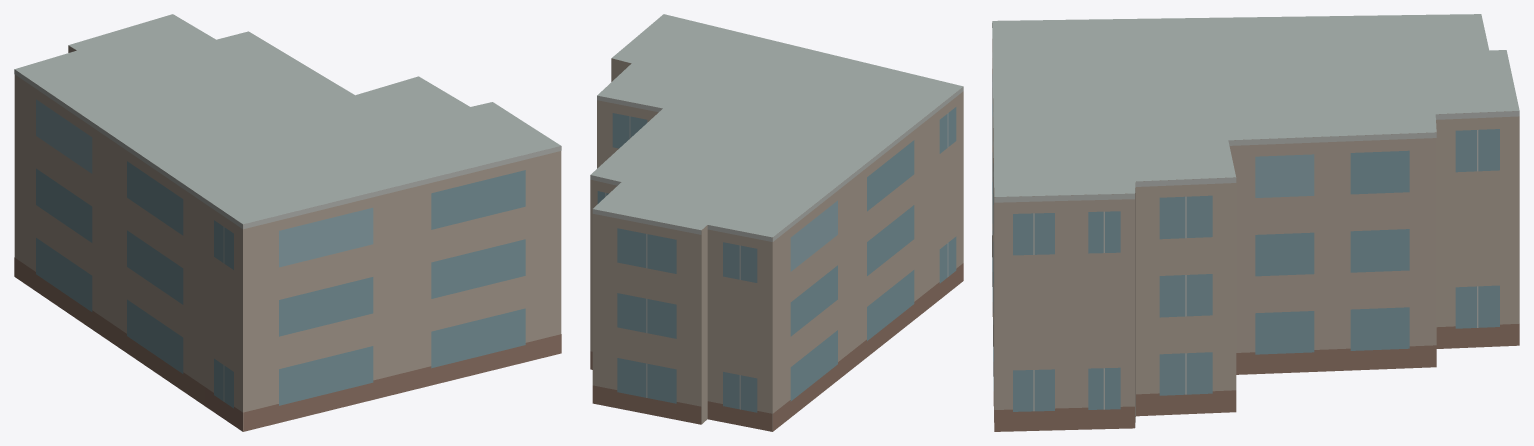
File: survey-upis-32963254.glb
3 views of the same model, side by side, from view 1: azimuth 30°, elevation 25°; view 2: azimuth 150°, elevation 25°; view 3: azimuth 270°, elevation 25° (orthographic). The views are drawn at different scales.
Parts seen in each view (by area): view 1: survey-upis-32963254.tmp; view 2: survey-upis-32963254.tmp; view 3: survey-upis-32963254.tmp.
Boxes of the visible parts, x1,y1,x2,y2 form: survey-upis-32963254.tmp: [14, 14, 561, 431]; survey-upis-32963254.tmp: [590, 14, 963, 431]; survey-upis-32963254.tmp: [992, 14, 1519, 431].
Bounding box in the file's own units: 17.07 × 10.2 × 20.78.
